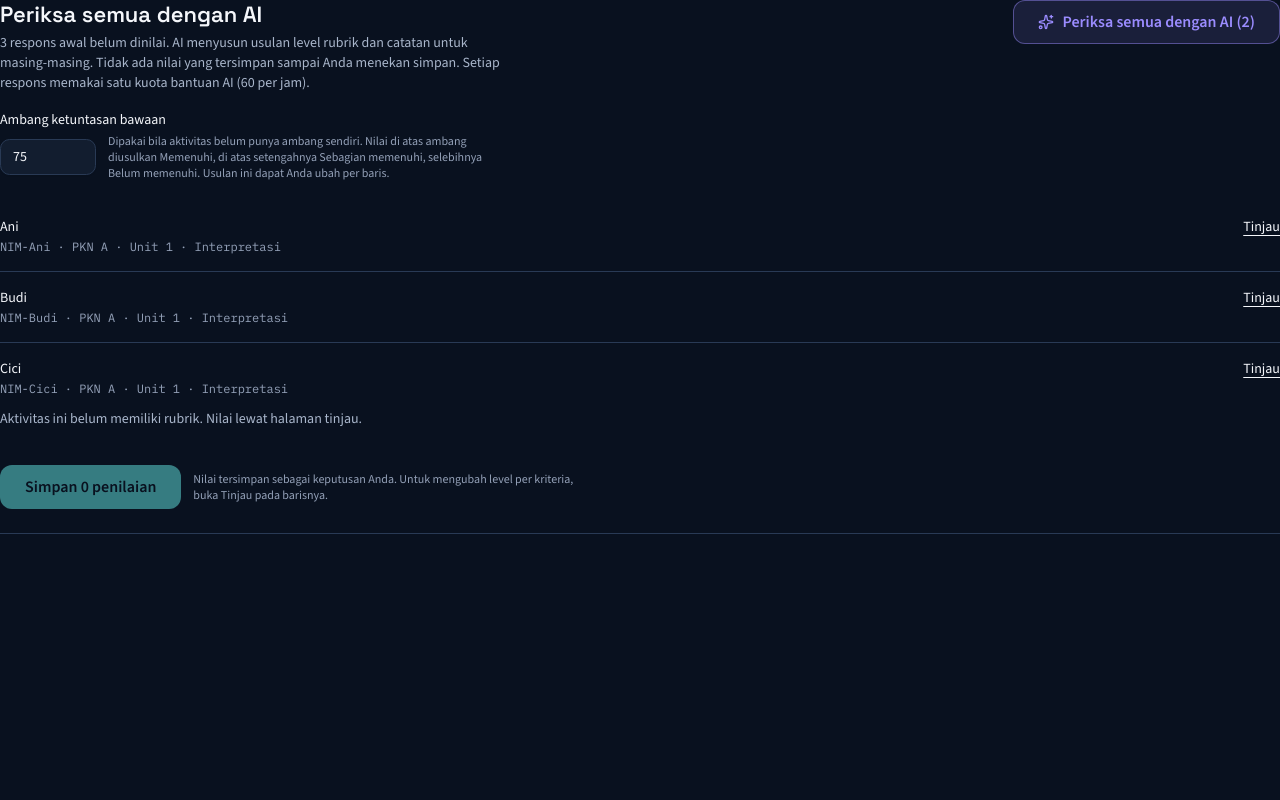
Test: BulkAiReview › menyimpan semua usulan terpilih sebagai keputusan dosen
Click the button "Periksa semua dengan AI (2)": (1147, 22) [1014,0,1279,44]
(page scrolled)
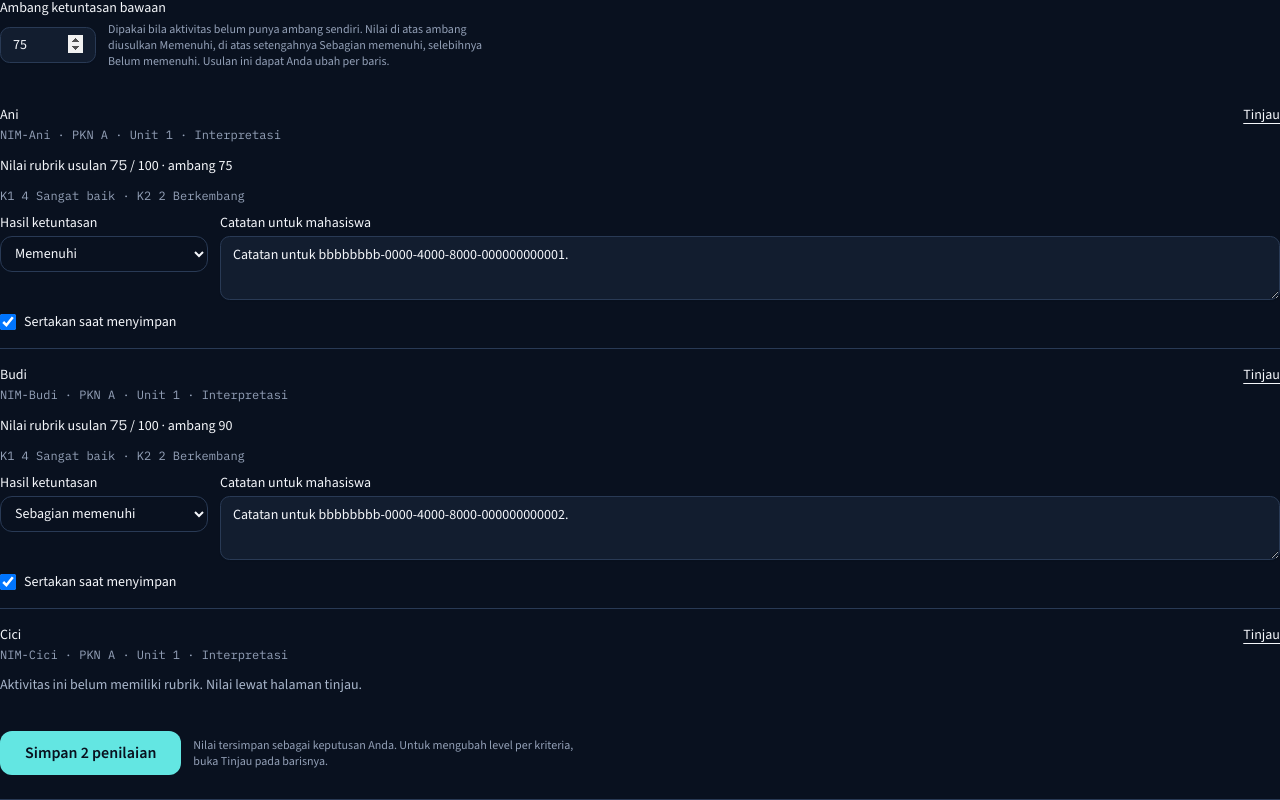
Click the button "Simpan 2 penilaian": (91, 753) [0,731,181,775]
(page scrolled)
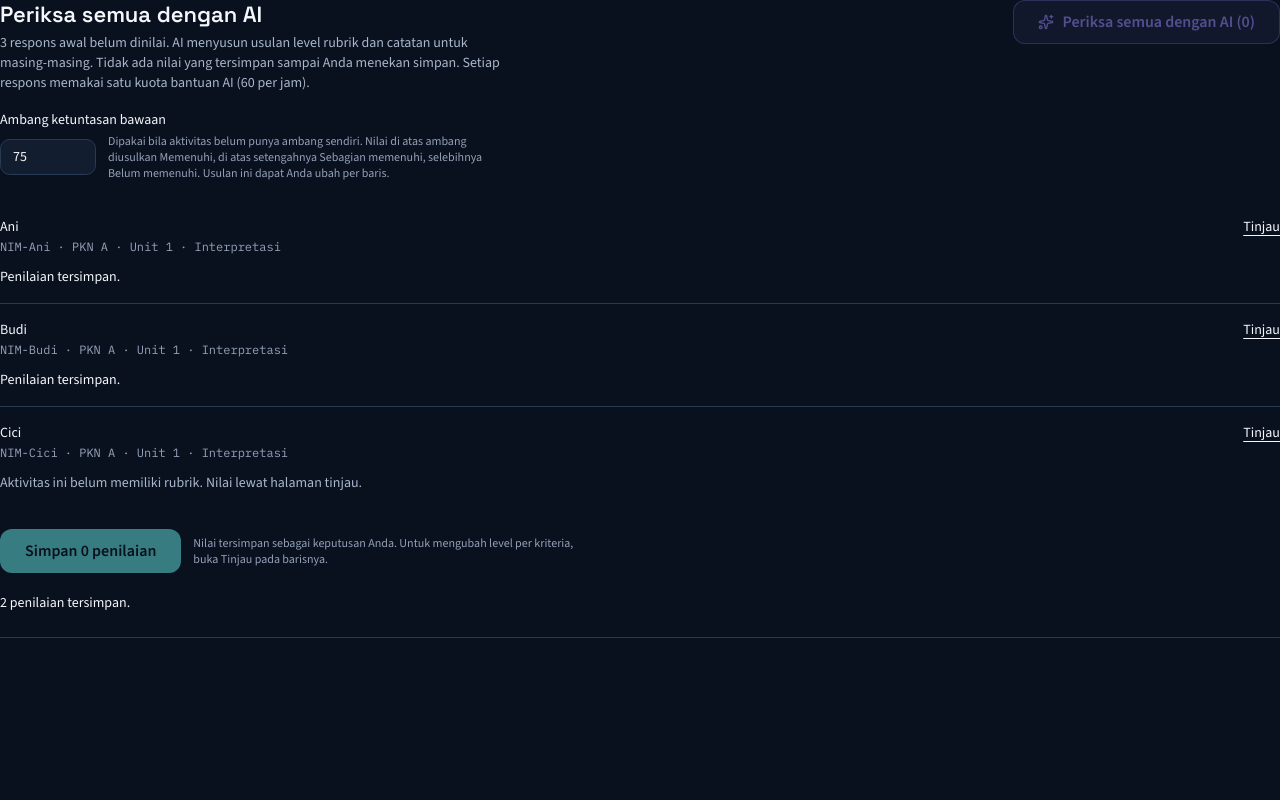
Expected: the text "Penilaian tersimpan." is shown 2 times, [0,267,120,286]; [0,370,120,389]
Expected: the text "2 penilaian tersimpan." is shown, [0,593,130,612]
